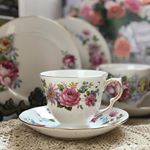cups: (38, 67, 125, 129), (94, 62, 150, 110)
